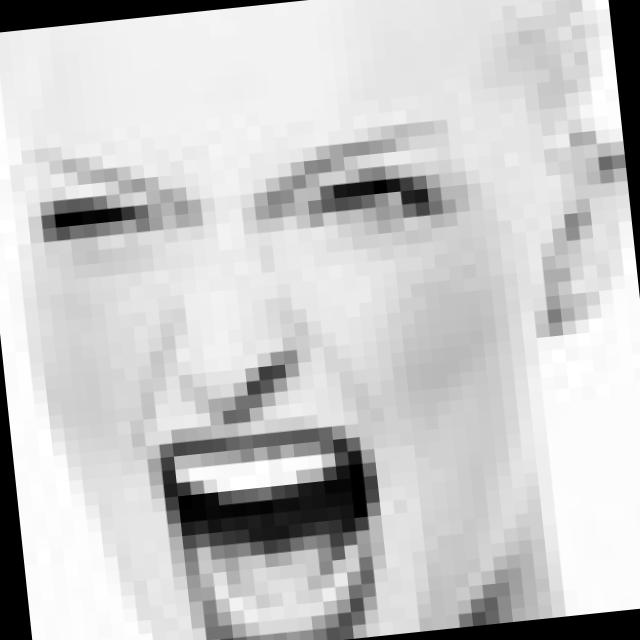angry: (22, 109, 503, 640)
